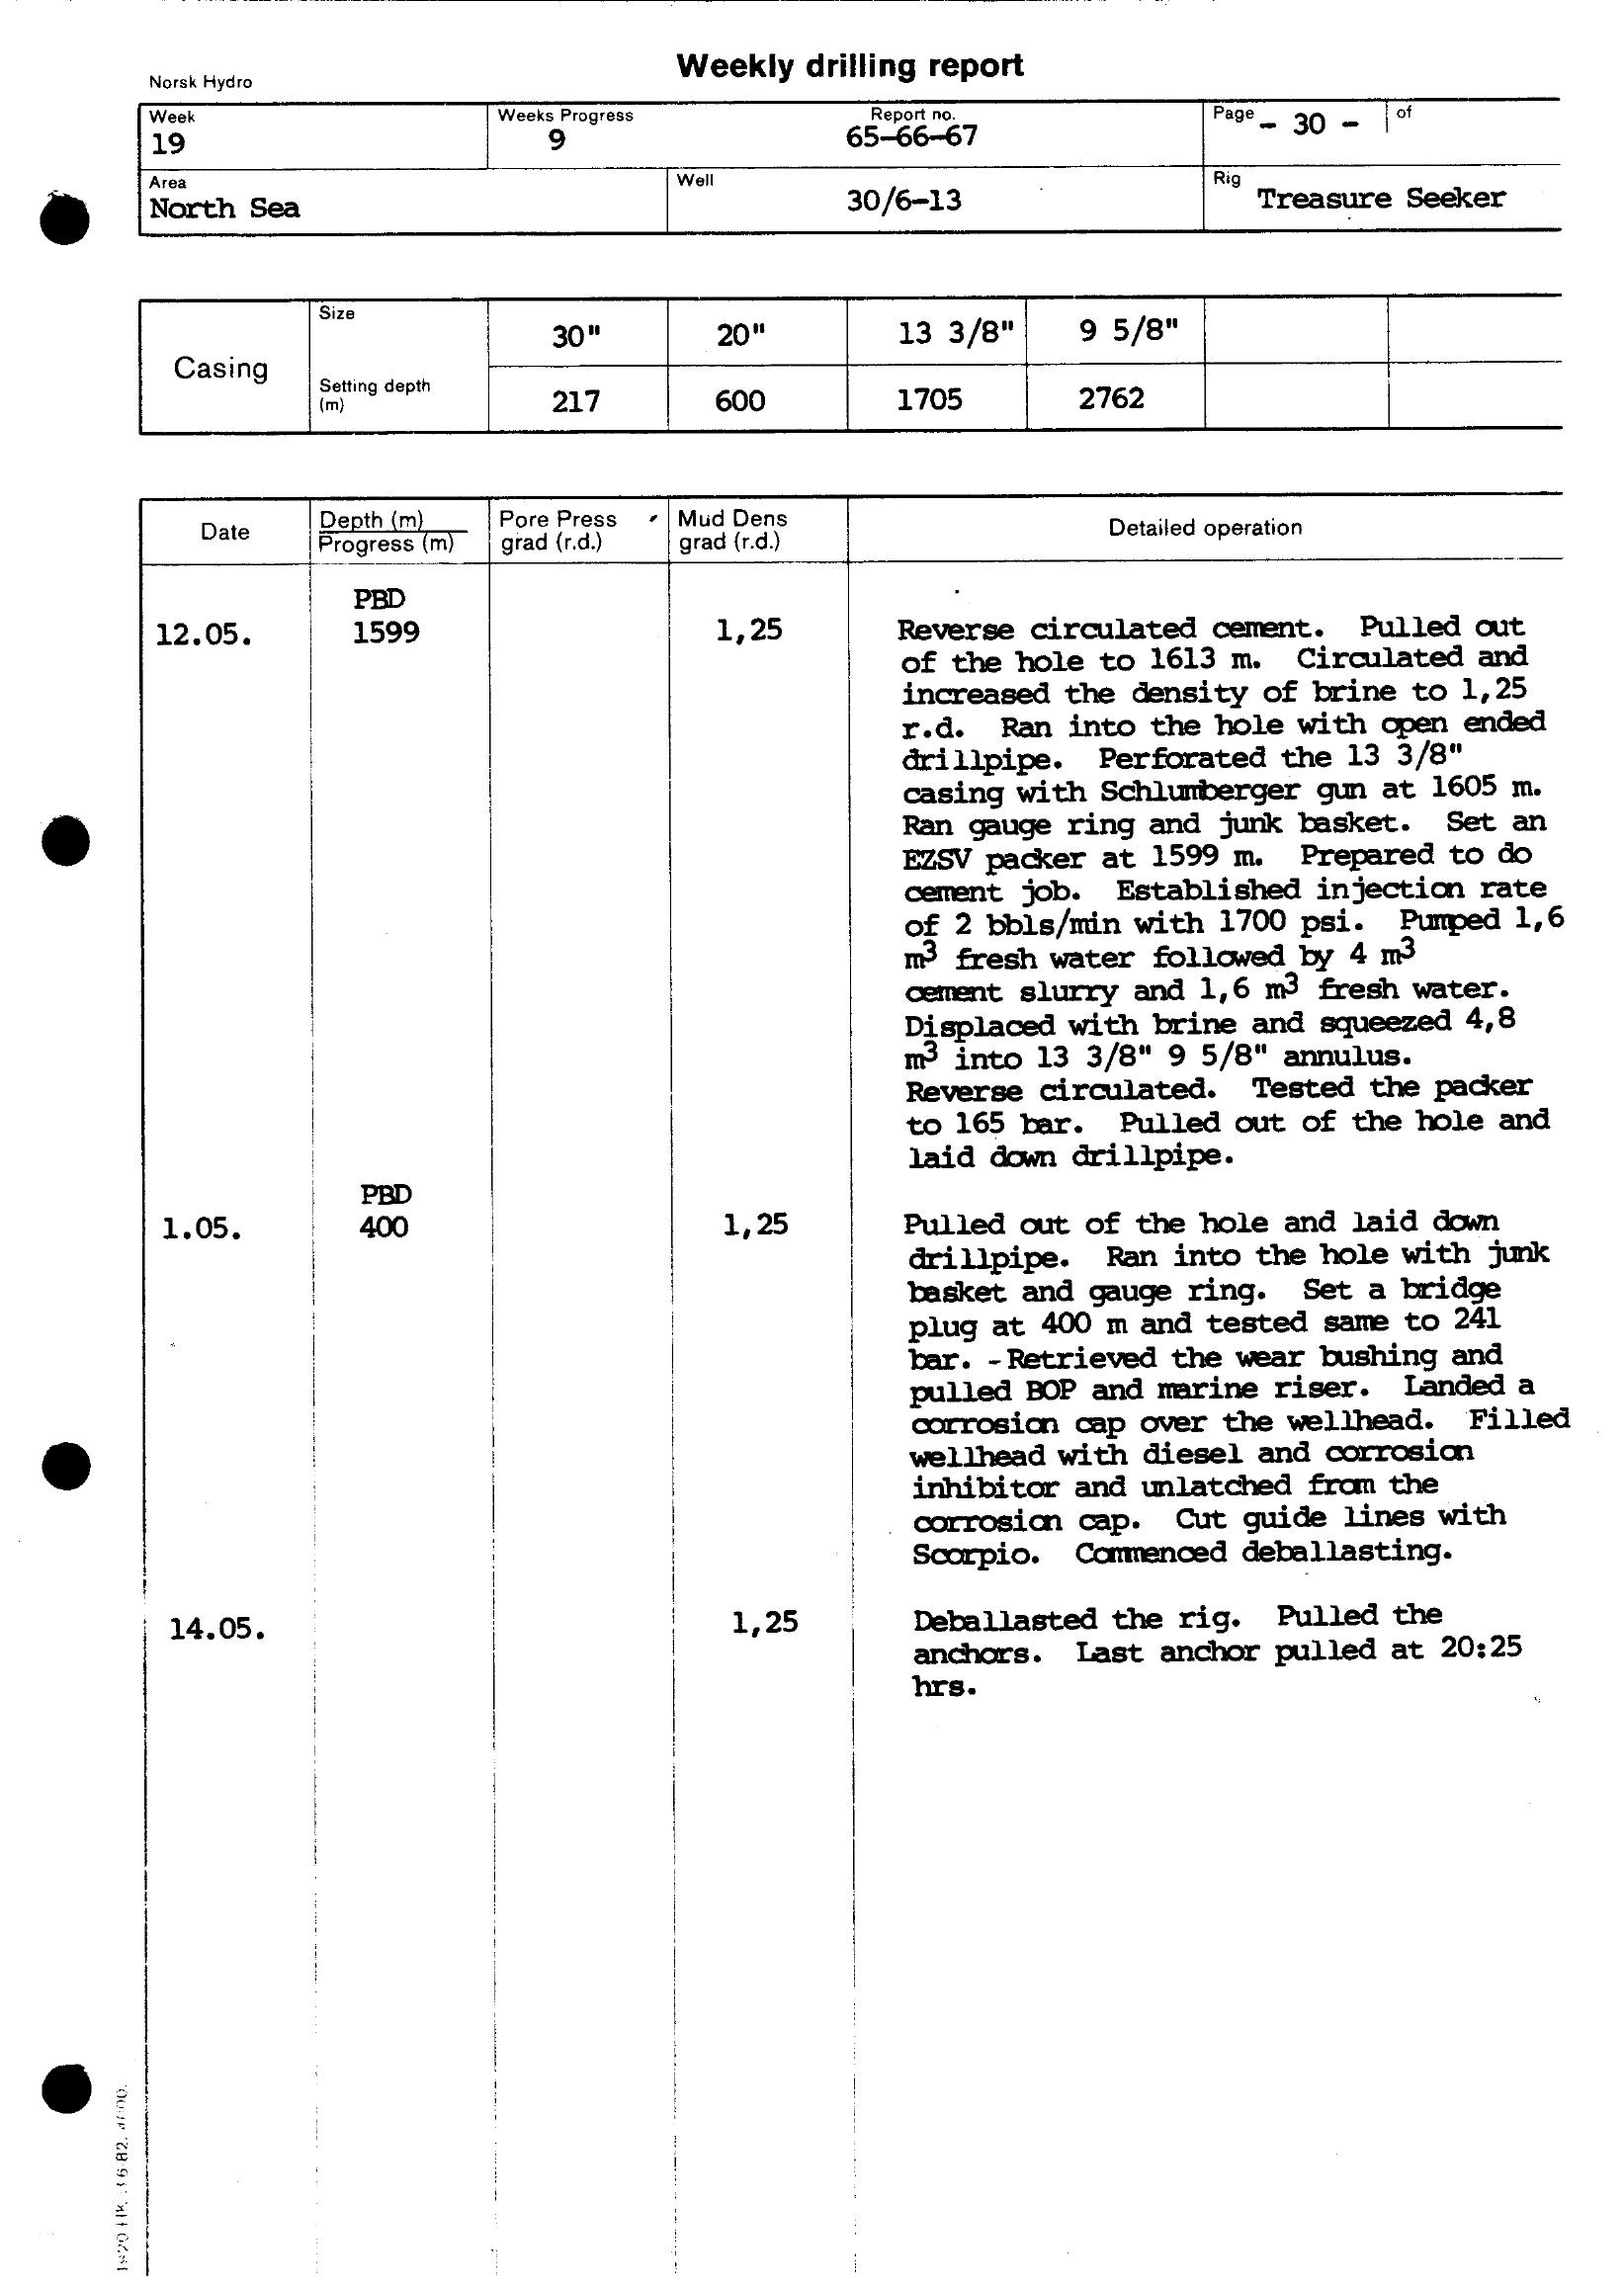graph: (125, 91, 1624, 1807)
text: (654, 39, 1048, 97)
